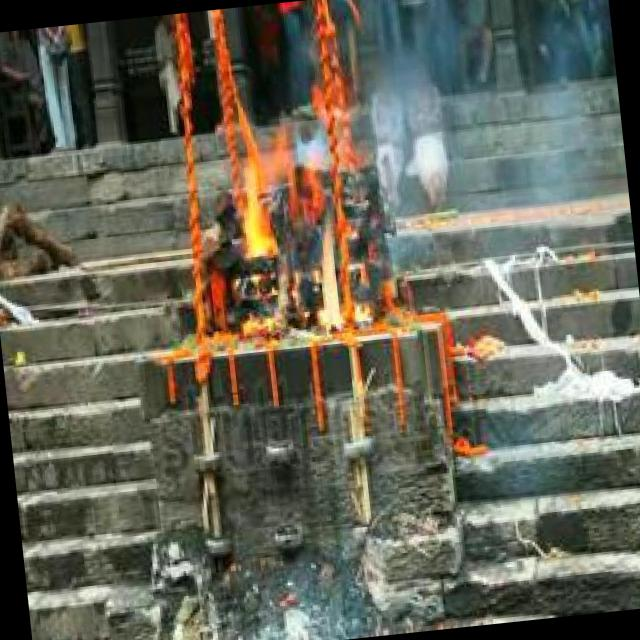Fire: (226, 109, 362, 346)
